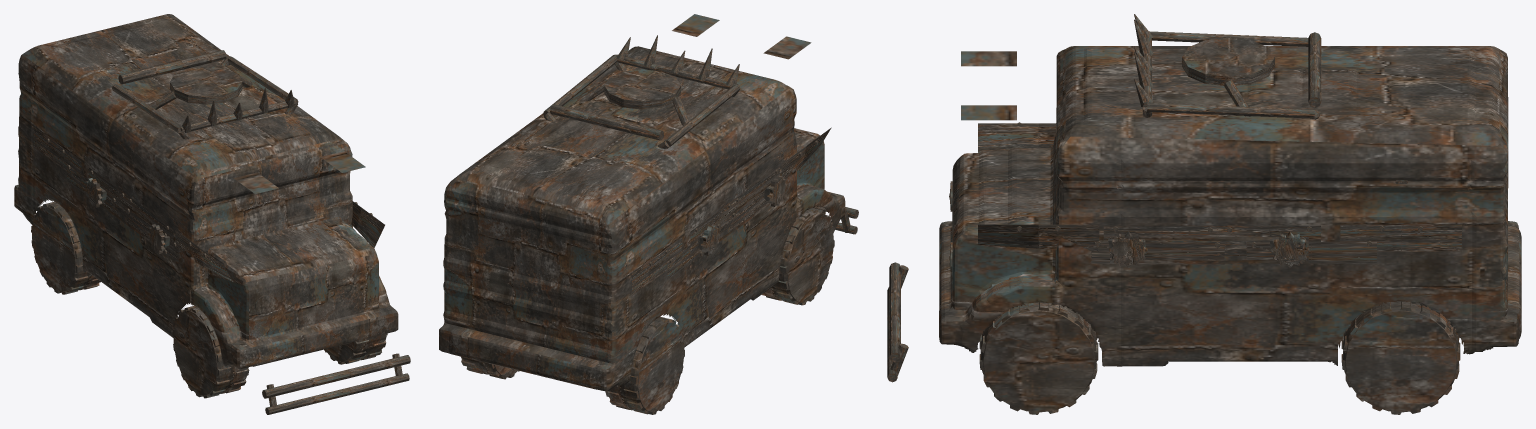
The model's file is bully.glb.
3 renders of one model, left to right at view 1: azimuth 30°, elevation 25°; view 2: azimuth 150°, elevation 25°; view 3: azimuth 270°, elevation 25°, orthographic. The views are drawn at different scales.
Parts seen in each view (by area): view 1: kit-full-plating-painted-metal, kit-bull-bar-painted-metal, kit-turret-mount-painted-metal, kit-cage-painted-metal, kit-scrapper-painted-metal, warlord-crossbar, kit-plate-3-painted-metal, kit-plate-0-painted-metal, kit-plate-2-painted-metal, kit-raider-painted-metal, kit-crown-painted-metal, kit-saw-1-guard-painted-metal (+1 smaller); view 2: kit-full-plating-painted-metal, kit-turret-mount-painted-metal, kit-cage-painted-metal, kit-scrapper-painted-metal, warlord-crossbar, kit-plate-3-painted-metal, kit-crown-painted-metal, kit-raider-painted-metal, kit-plate-2-painted-metal, kit-saw-1-guard-painted-metal, kit-saw-0-guard-painted-metal, kit-bull-bar-painted-metal; view 3: kit-full-plating-painted-metal, kit-raider-painted-metal, kit-turret-mount-painted-metal, kit-scrapper-painted-metal, kit-cage-painted-metal, kit-plate-1-painted-metal, kit-plate-0-painted-metal, kit-plate-2-painted-metal, kit-bull-bar-painted-metal, kit-crown-painted-metal, warlord-crossbar, kit-saw-0-painted-metal (+1 smaller).
Boxes of the visible parts, <box> form: kit-full-plating-painted-metal: <box>14,14,398,398</box>; kit-bull-bar-painted-metal: <box>262,353,410,414</box>; kit-turret-mount-painted-metal: <box>149,66,252,109</box>; kit-cage-painted-metal: <box>112,56,298,139</box>; kit-scrapper-painted-metal: <box>89,167,173,251</box>; warlord-crossbar: <box>118,50,226,84</box>; kit-plate-3-painted-metal: <box>33,126,81,181</box>; kit-plate-0-painted-metal: <box>351,201,384,247</box>; kit-plate-2-painted-metal: <box>175,230,233,282</box>; kit-raider-painted-metal: <box>67,164,178,261</box>; kit-crown-painted-metal: <box>182,88,294,132</box>; kit-saw-1-guard-painted-metal: <box>148,224,169,253</box>; kit-full-plating-painted-metal: <box>439,14,845,414</box>; kit-turret-mount-painted-metal: <box>577,69,689,125</box>; kit-cage-painted-metal: <box>543,54,739,148</box>; kit-scrapper-painted-metal: <box>690,166,779,255</box>; warlord-crossbar: <box>550,104,663,140</box>; kit-plate-3-painted-metal: <box>632,237,682,295</box>; kit-crown-painted-metal: <box>617,35,739,86</box>; kit-raider-painted-metal: <box>667,176,784,279</box>; kit-plate-2-painted-metal: <box>781,127,831,180</box>; kit-saw-1-guard-painted-metal: <box>764,175,786,206</box>; kit-saw-0-guard-painted-metal: <box>697,224,719,255</box>; kit-bull-bar-painted-metal: <box>812,207,858,234</box>; kit-full-plating-painted-metal: <box>939,46,1521,414</box>; kit-raider-painted-metal: <box>1091,240,1376,264</box>; kit-turret-mount-painted-metal: <box>1182,37,1274,116</box>; kit-scrapper-painted-metal: <box>1103,225,1320,255</box>; kit-cage-painted-metal: <box>1142,31,1319,119</box>; kit-plate-1-painted-metal: <box>1340,224,1461,251</box>; kit-plate-0-painted-metal: <box>978,224,1099,251</box>; kit-plate-2-painted-metal: <box>978,122,1056,152</box>; kit-bull-bar-painted-metal: <box>887,262,908,382</box>; kit-crown-painted-metal: <box>1134,14,1153,106</box>; warlord-crossbar: <box>1308,32,1321,107</box>; kit-saw-0-painted-metal: <box>1269,231,1309,267</box>.
Size of the model in its own units: 2.5 by 3.36 by 5.95.
Materials: 1 (1 with a texture image).
